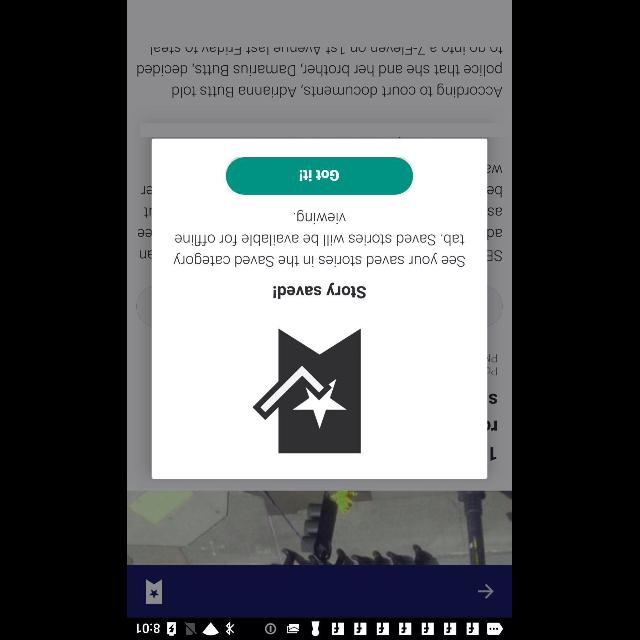icon: (146, 578, 164, 604), (479, 583, 495, 599)
image: (254, 328, 362, 454)
panel: (152, 138, 488, 480)
text: (174, 210, 466, 268), (274, 282, 366, 300)
textbutton: (226, 157, 414, 195)
uppertaskbar: (128, 617, 512, 639)
